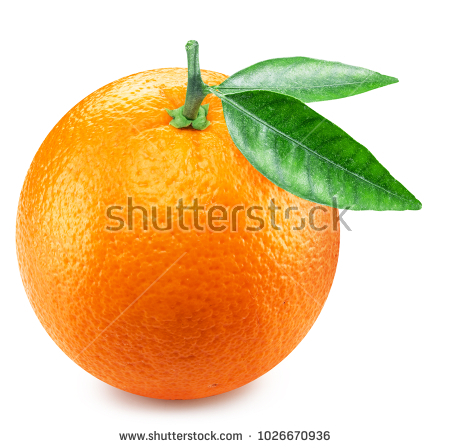orange: (4, 71, 366, 398)
